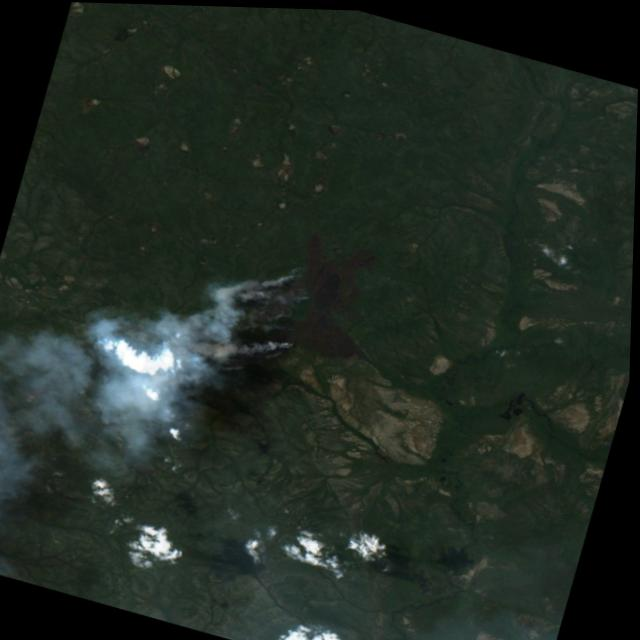fire: (194, 237, 322, 382)
